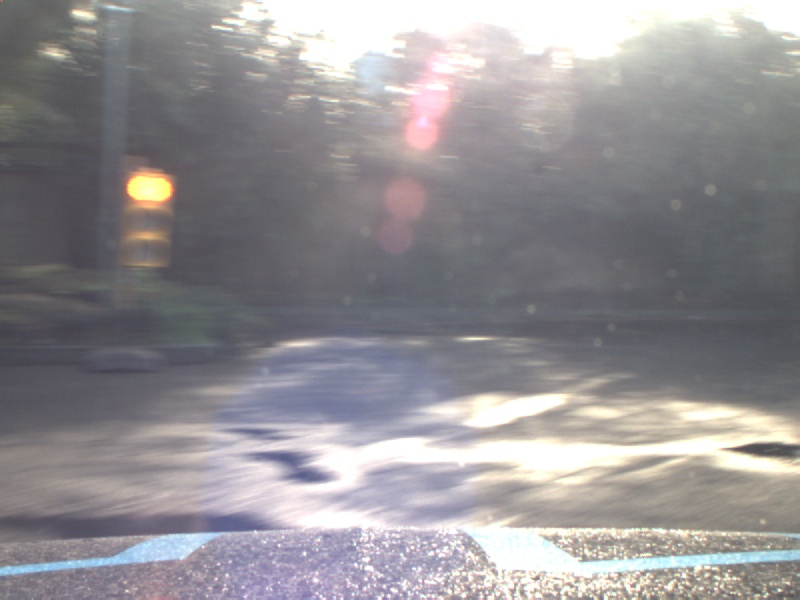Red: (123, 168, 171, 267)
